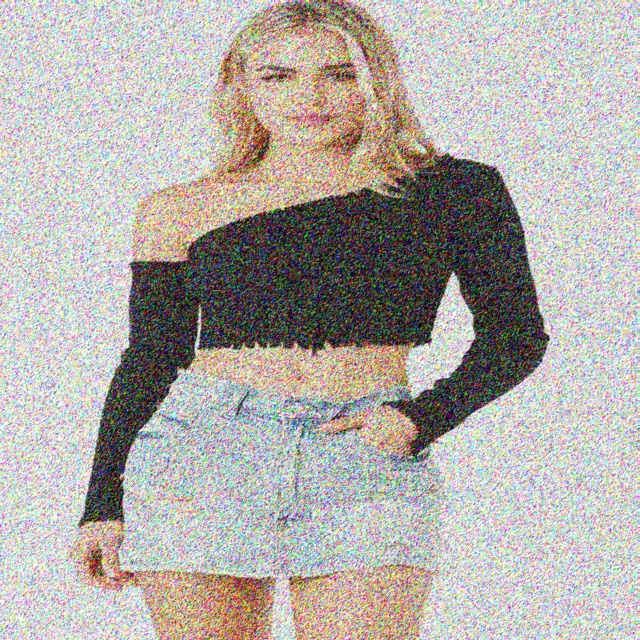Crop_Top: (189, 241, 416, 403)
Miniskirt: (115, 363, 449, 640)
Sleeveless: (132, 180, 190, 235)
low_neckline: (191, 147, 435, 343)
